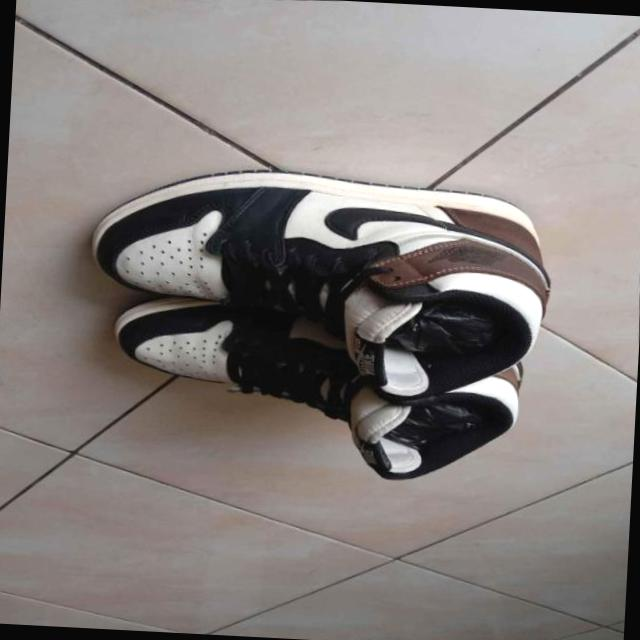nike_fake_jordan: (81, 150, 562, 422), (101, 278, 532, 499)
